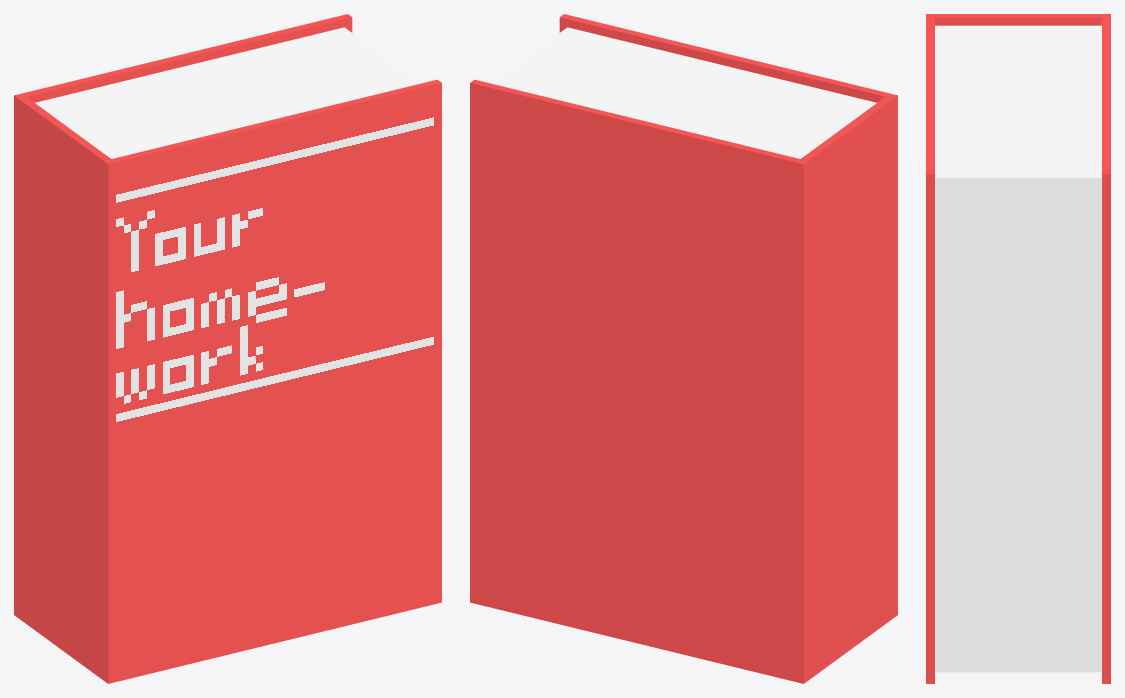
The model's file is 你的作业！！！.gltf.
3 views of the same model, side by side, from view 1: azimuth 30°, elevation 25°; view 2: azimuth 150°, elevation 25°; view 3: azimuth 270°, elevation 25° (orthographic).
Visible parts, largest first — view 1: Object; view 2: Object; view 3: Object.
Boxes of the visible parts, x1=… form: Object: x1=14, y1=14, x2=441, y2=683; Object: x1=470, y1=14, x2=897, y2=683; Object: x1=926, y1=14, x2=1110, y2=683.
Size of the model in its own units: 43 by 64 by 21.
1 material, 1 textured.
